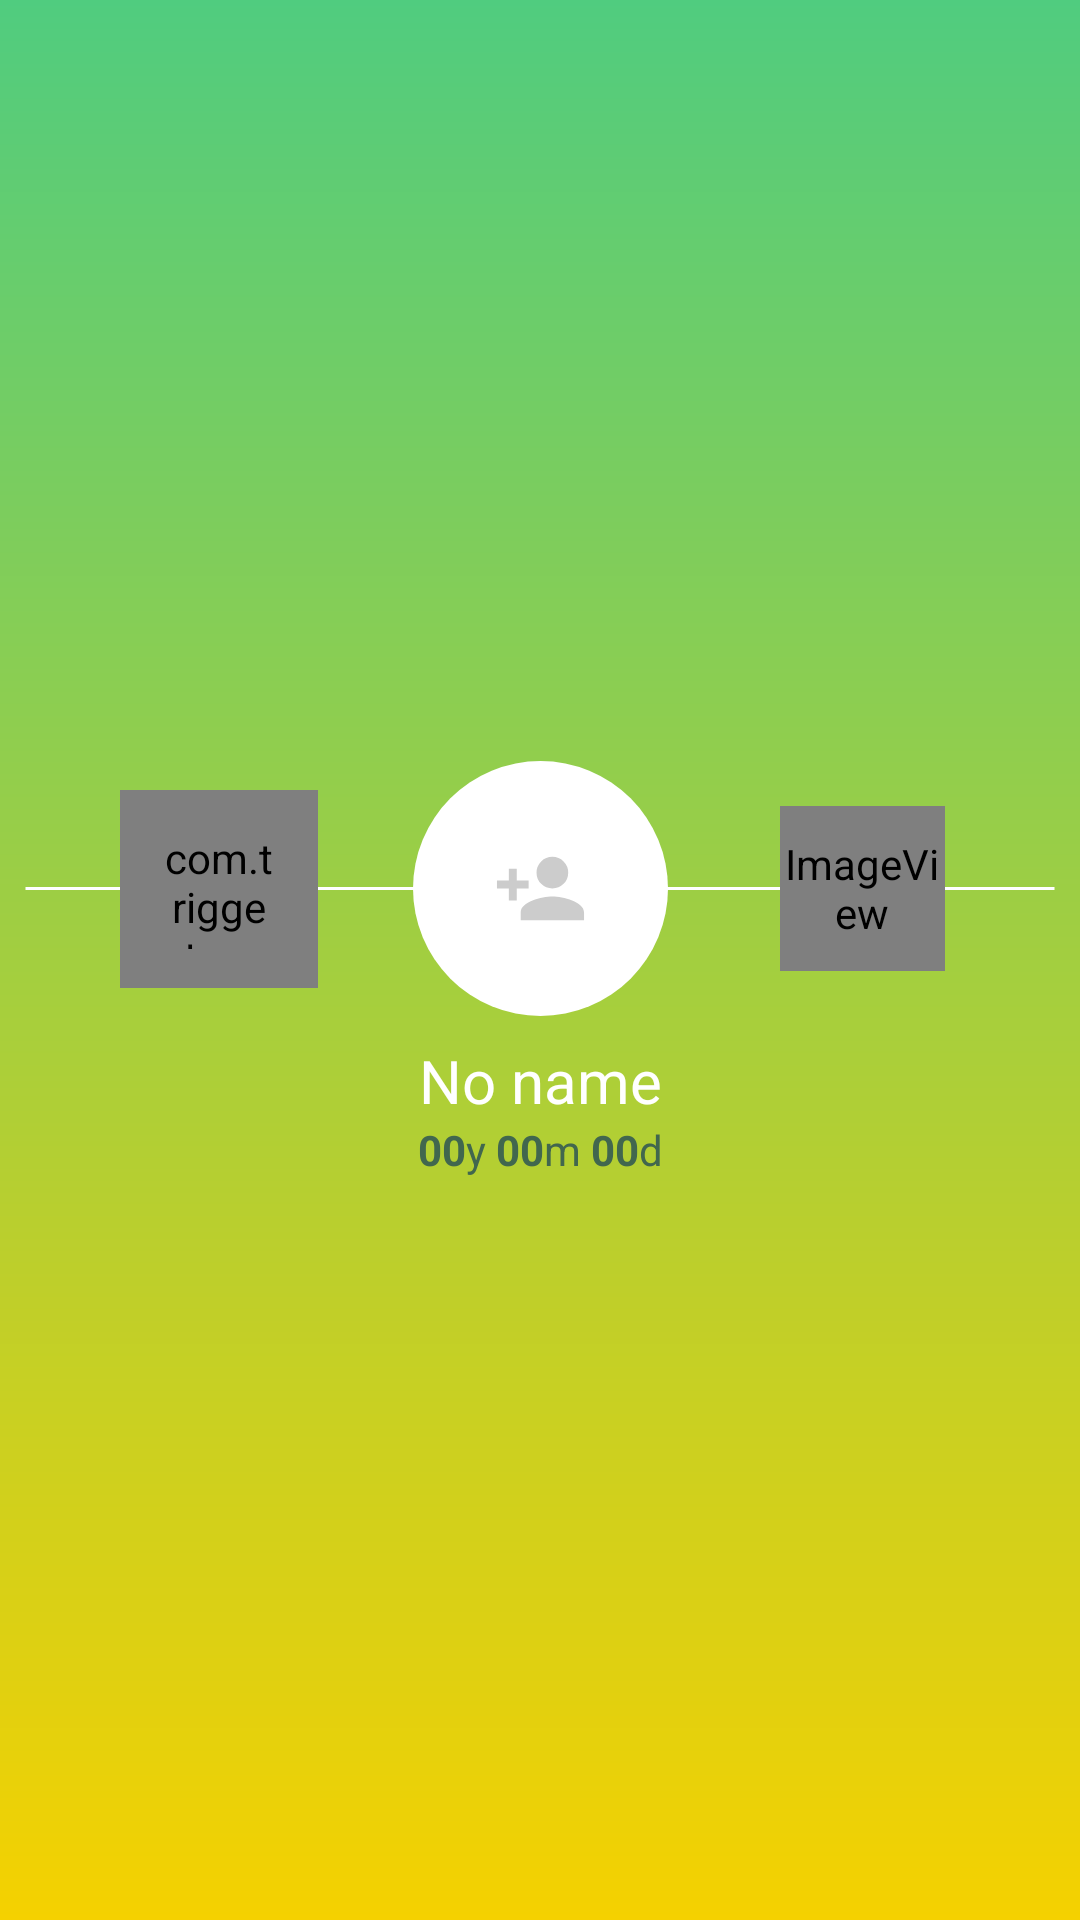

Where icons sit on this 1080px×1920px app screen, as (x1, y1, x2, y2):
user profile photo: (413, 761, 668, 1016)
